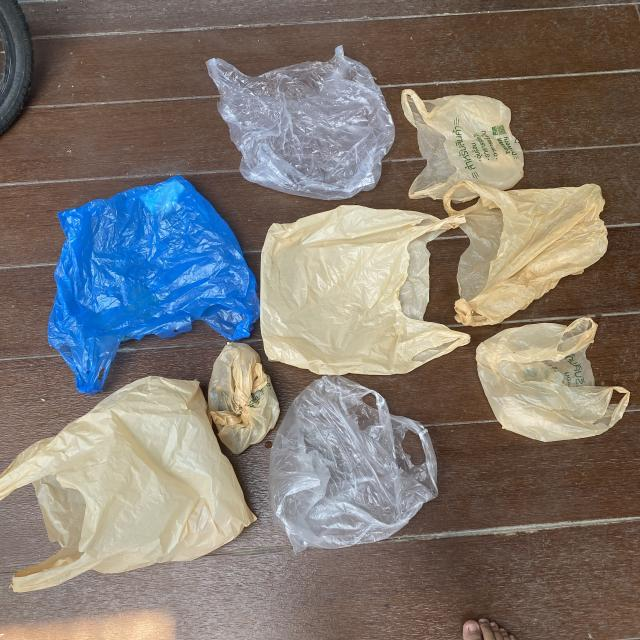Single-layer Plastic: (0, 376, 256, 592), (47, 177, 261, 398), (260, 205, 470, 375), (269, 375, 438, 552), (206, 46, 395, 200), (444, 180, 608, 326), (476, 318, 630, 441), (401, 90, 524, 199), (208, 342, 280, 454), (521, 272, 522, 275), (381, 260, 382, 261)
